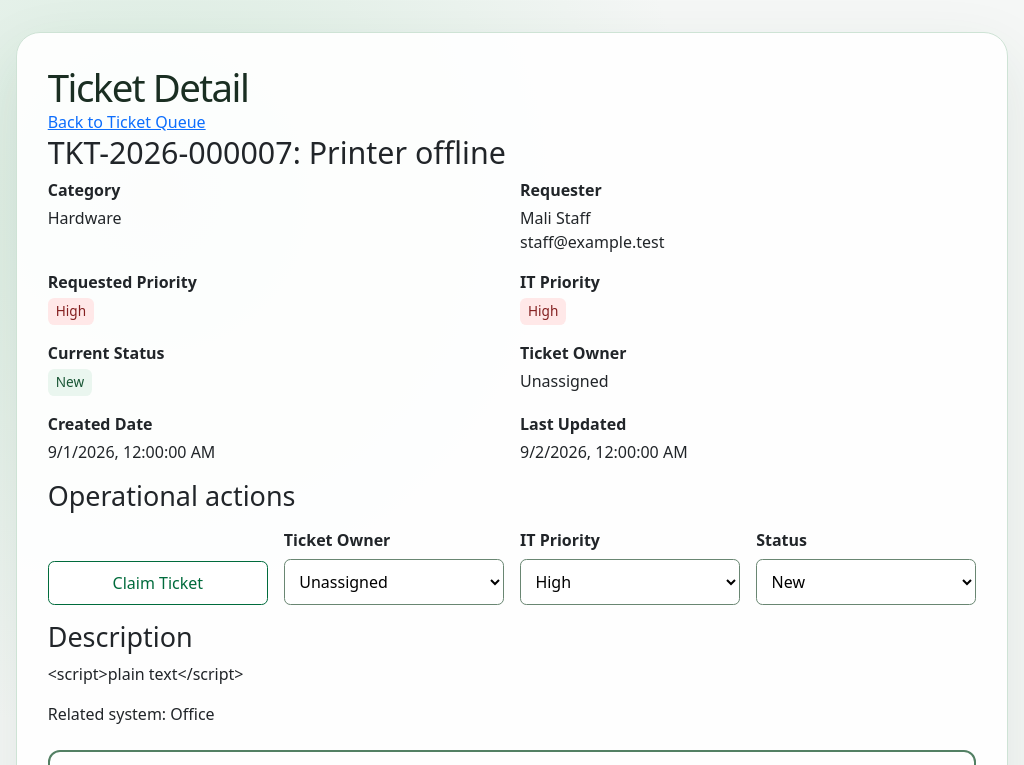
Test case: offers only permitted statuses and confirms cancellation before sending
The width and height of the screenshot is (1024, 765).
Check: the text "<script>plain text</script>" is shown, box [48, 663, 244, 685]
Select "Cancelled" in the dropdown labelled "Status". click: (866, 582)
box: [756, 558, 976, 605]
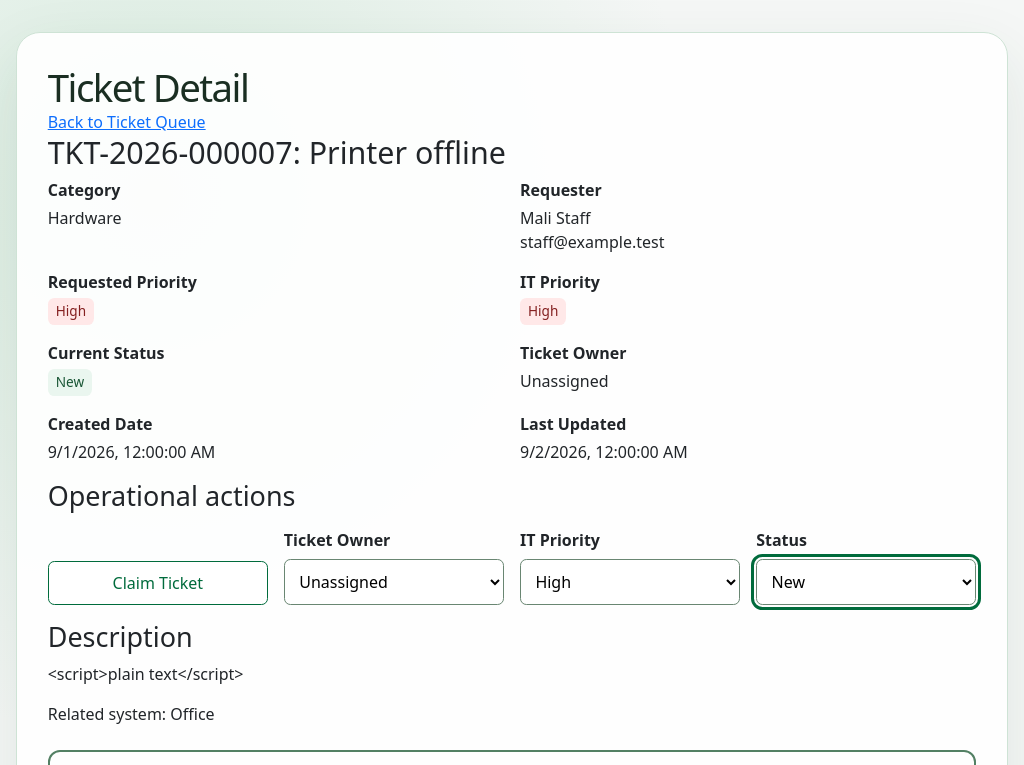
Select "Cancelled" in the dropdown labelled "Status". click: (866, 582)
box: [756, 558, 976, 605]
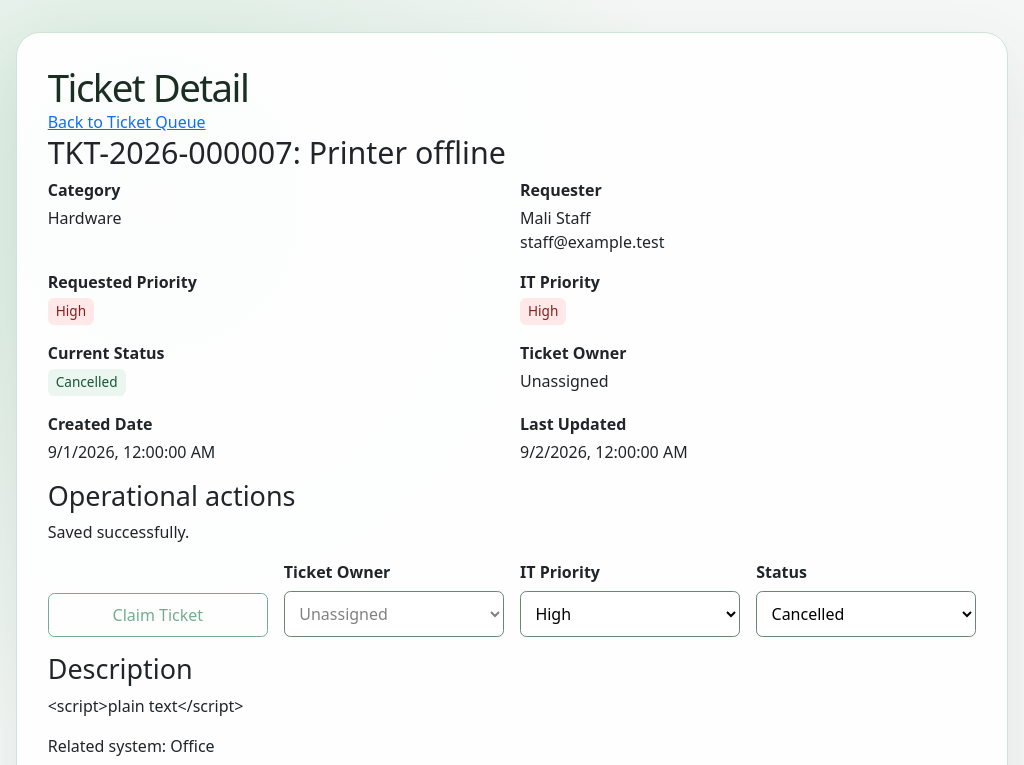
Check: the dropdown labelled "Status" shows "Cancelled", box [756, 590, 976, 637]
Check: the button "Claim Ticket" is disabled, box [48, 593, 268, 637]
Check: the dropdown labelled "Ticket Owner" is disabled, box [284, 590, 504, 637]
